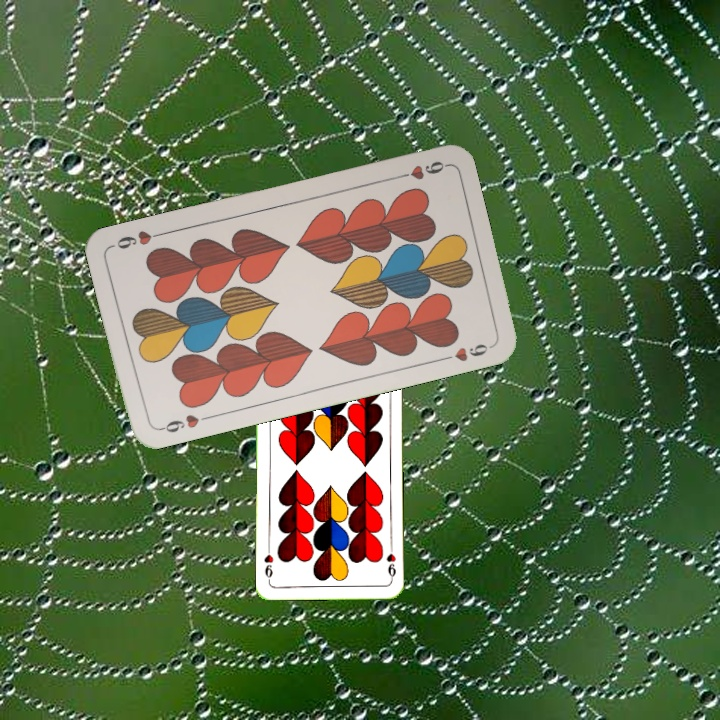H9: (154, 410, 212, 436), (391, 157, 449, 183), (383, 543, 398, 583)
